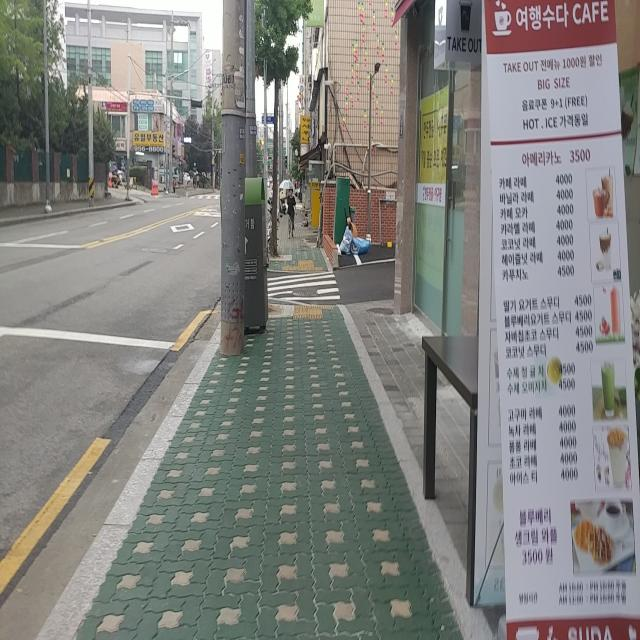횡단보도: (267, 270, 342, 302)
